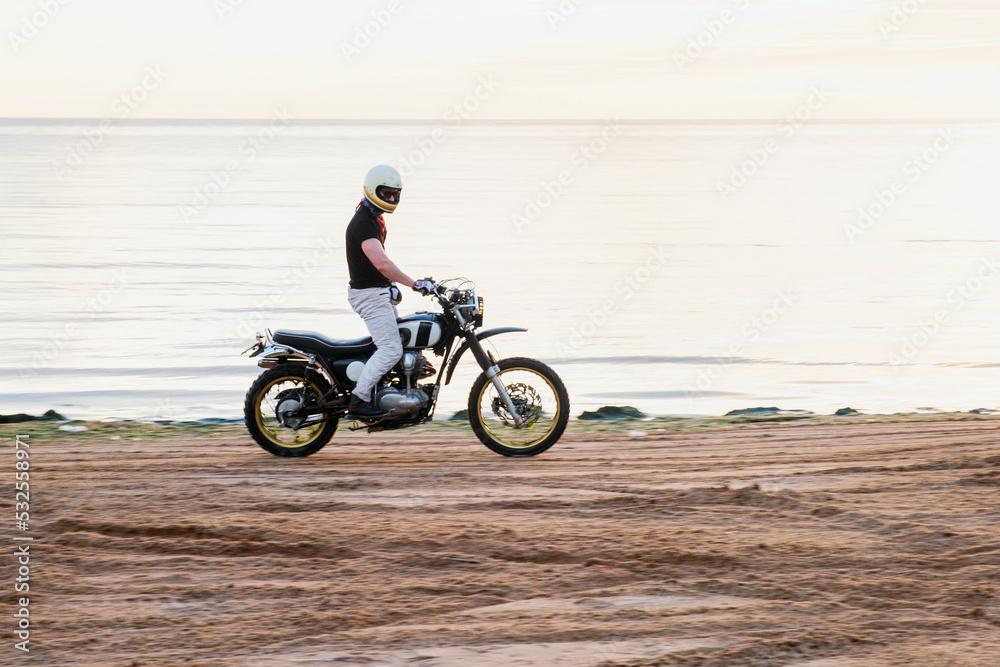helmet: (362, 164, 404, 215)
